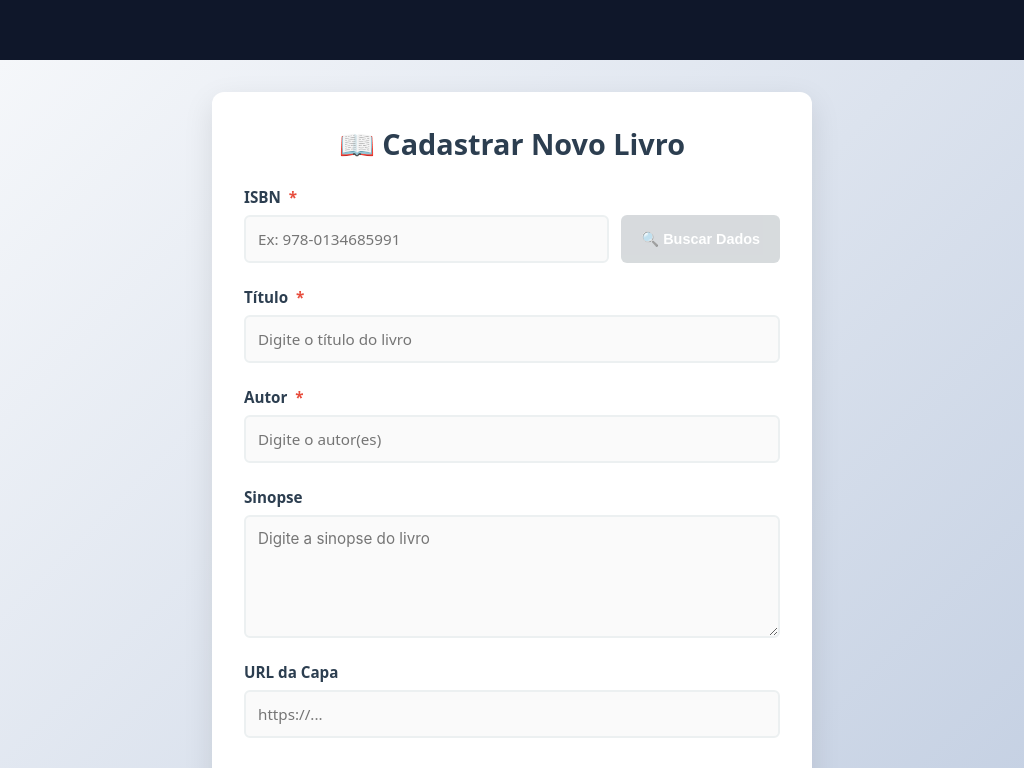
Test case: FormularioCadastroLivro - Componente › Mensagens de feedback › deve exibir mensagem de erro quando livro não encontrado
Type "9999999999999" into the field labelled "ISBN *" at (427, 239), box [244,215,609,263]
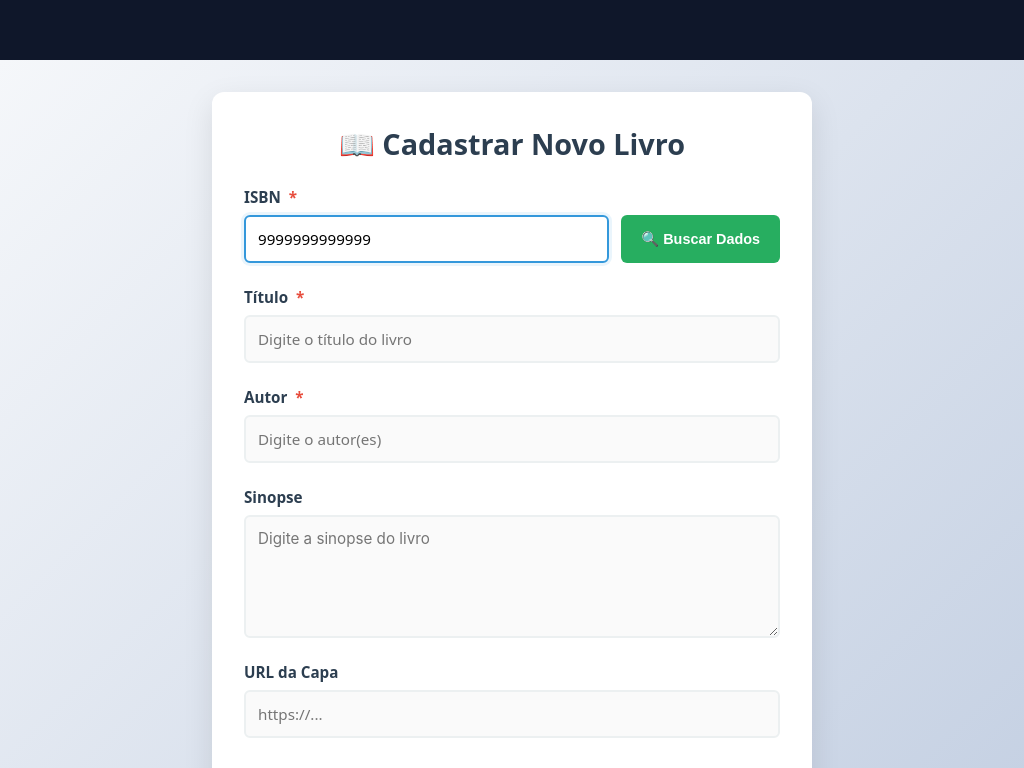
Click the button "🔍 Buscar Dados" at (701, 239), box [621,215,780,263]
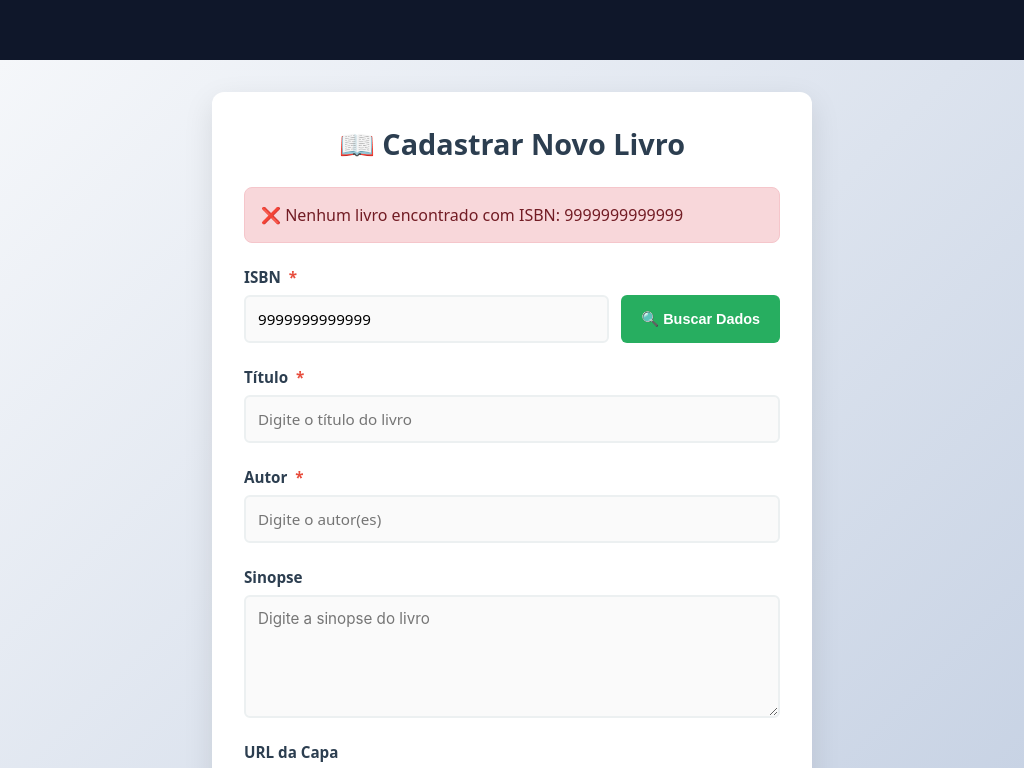
Result: the text "❌ Nenhum livro encontrado com ISBN: 9999999999999" is shown at [244,187,780,243]
